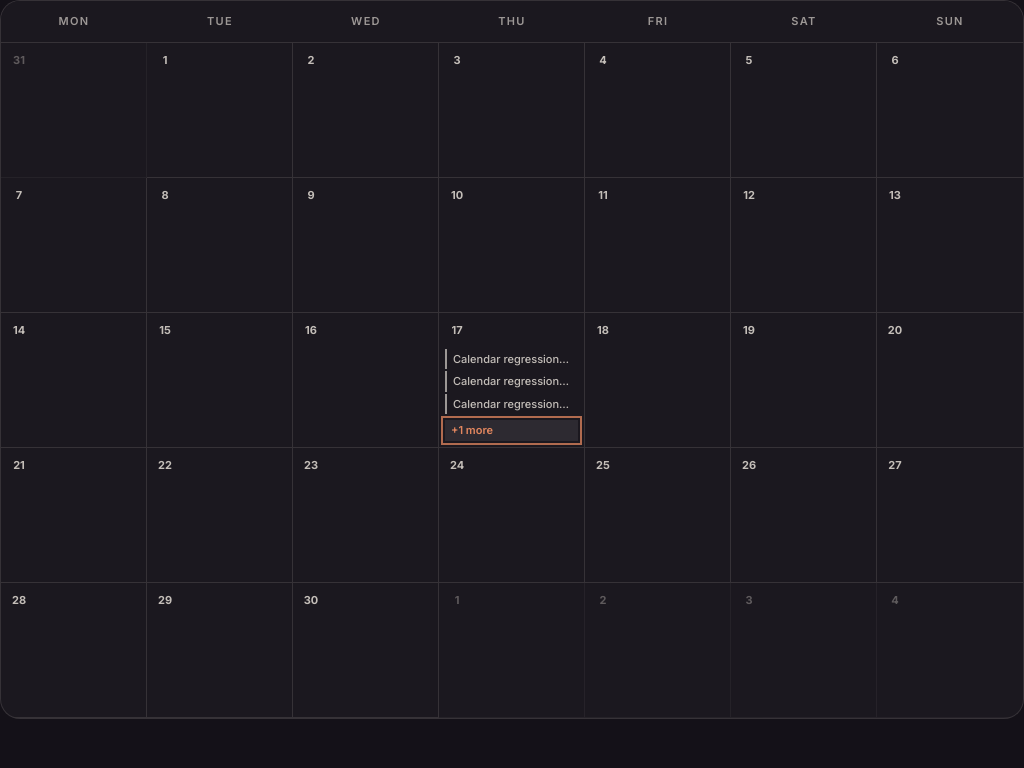
it: MonthView interaction boundaries › does not create or cancel native activation for overflow Enter
Press Enter in the button with aria-label "Show all 4 tasks for September 17", box [445, 420, 578, 440]
Click the button with aria-label "Show all 4 tasks for September 17". click: click(512, 430)
box: [445, 420, 578, 440]
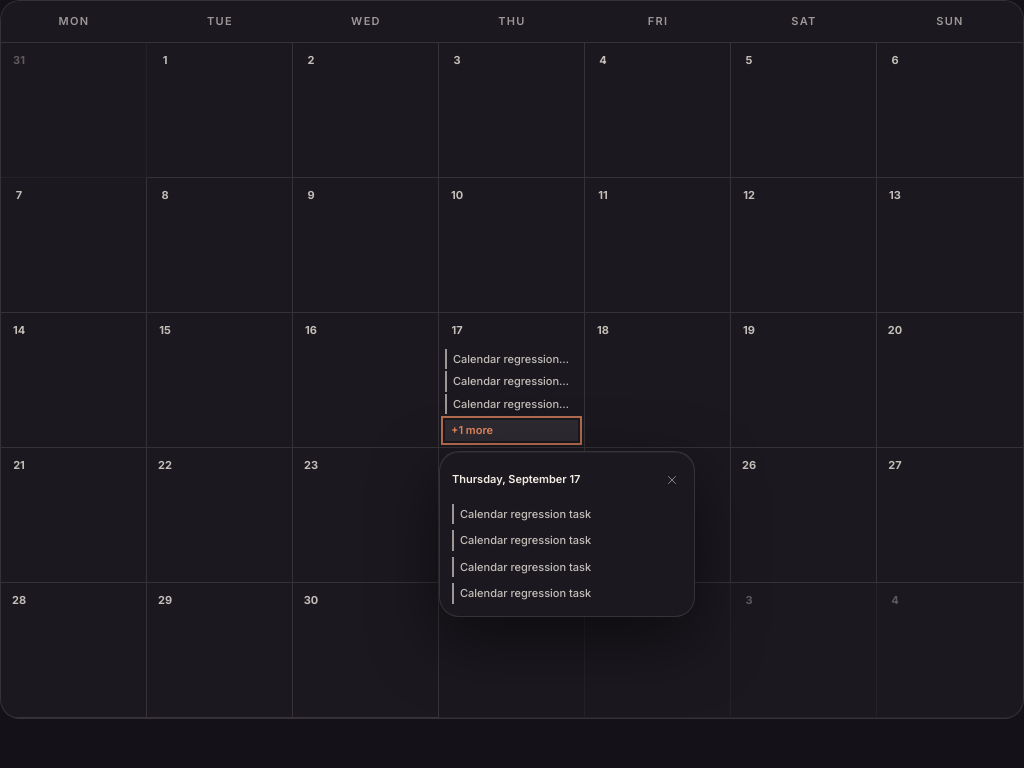
Now the dialog is shown, box [439, 450, 695, 616]
